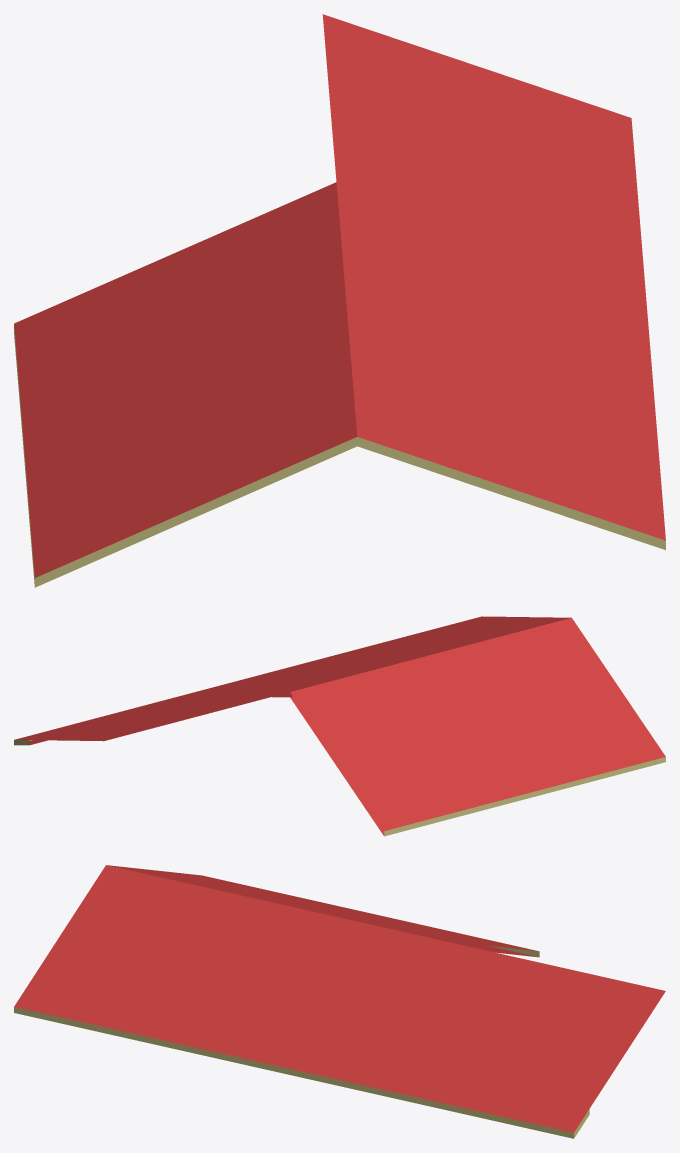
3 views of the same model, one above another, from view 1: azimuth 30°, elevation 25°; view 2: azimuth 150°, elevation 25°; view 3: azimuth 270°, elevation 25° (orthographic). The views are drawn at different scales.
Bounding box in the file's own units: 9.69 × 9.7 × 1.52.
